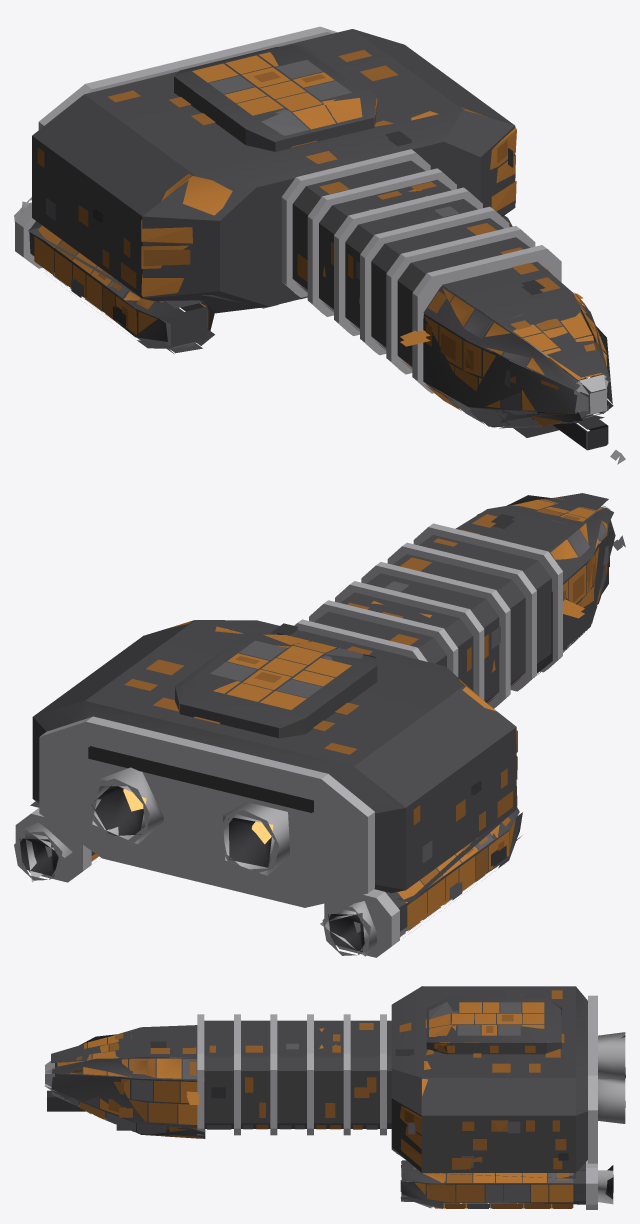
The model's file is enemy_frigate_far.glb.
3 views of the same model, one above another, from view 1: azimuth 30°, elevation 25°; view 2: azimuth 150°, elevation 25°; view 3: azimuth 270°, elevation 25° (orthographic). The views are drawn at different scales.
Visible parts, largest first — view 1: enemy_frigate; view 2: enemy_frigate; view 3: enemy_frigate.
Boxes of the visible parts, x1,y1,x2,y2 form: enemy_frigate: [14, 14, 625, 464]; enemy_frigate: [14, 493, 625, 957]; enemy_frigate: [45, 986, 625, 1209].
Bounding box in the file's own units: 30.74 × 18.56 × 61.1.
